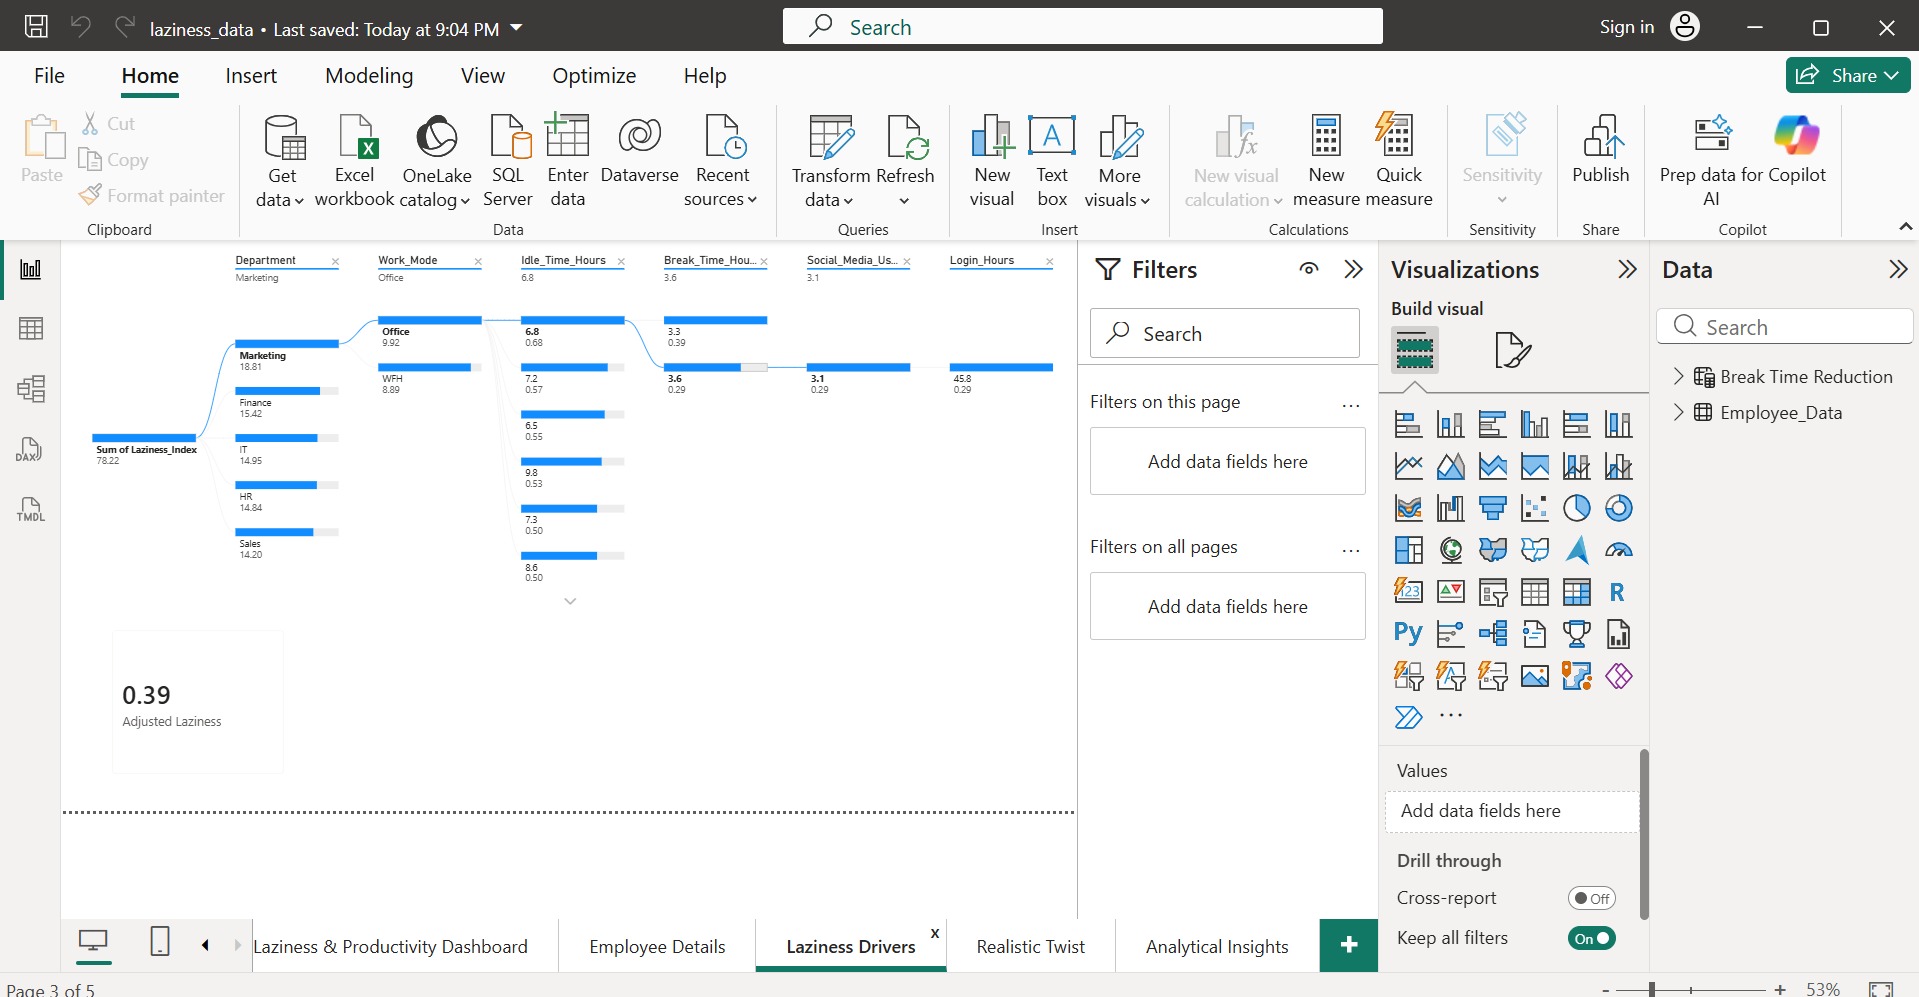

This screenshot's page, from the dashboard's own definition file:
{"tool":"powerbi","page":{"name":"Laziness Drivers","canvas":[1280,720],"ordinal":2},"visuals":[{"type":"decompositionTreeVisual","fields":{"Analyze":["Sum(Employee_Data.Laziness_Index)"],"ExplainBy":["Employee_Data.Department","Employee_Data.Work_Mode","Employee_Data.Idle_Time_Hours","Employee_Data.Break_Time_Hours","Employee_Data.Social_Media_Usage_Hours","Employee_Data.Login_Hours"]},"box":[10,0,1270,476],"z":0},{"type":"cardVisual","fields":{"Data":["Break Time Reduction.Adjusted Laziness Index"]},"box":[47.5,475,250,215],"z":1000}]}

Visuals, with their boxes on the page's 1280x720 design canvas (x1, y1, x2, y2). These are canvas units, not pixel positions in the 1919x997 screenshot, which may show the page scaled, cropped or inside an application window:
decompositionTreeVisual - Sum(Employee_Data.Laziness_Index) x Employee_Data.Department: (10,0,1280,476)
cardVisual - Break Time Reduction.Adjusted Laziness Index: (48,475,298,690)
